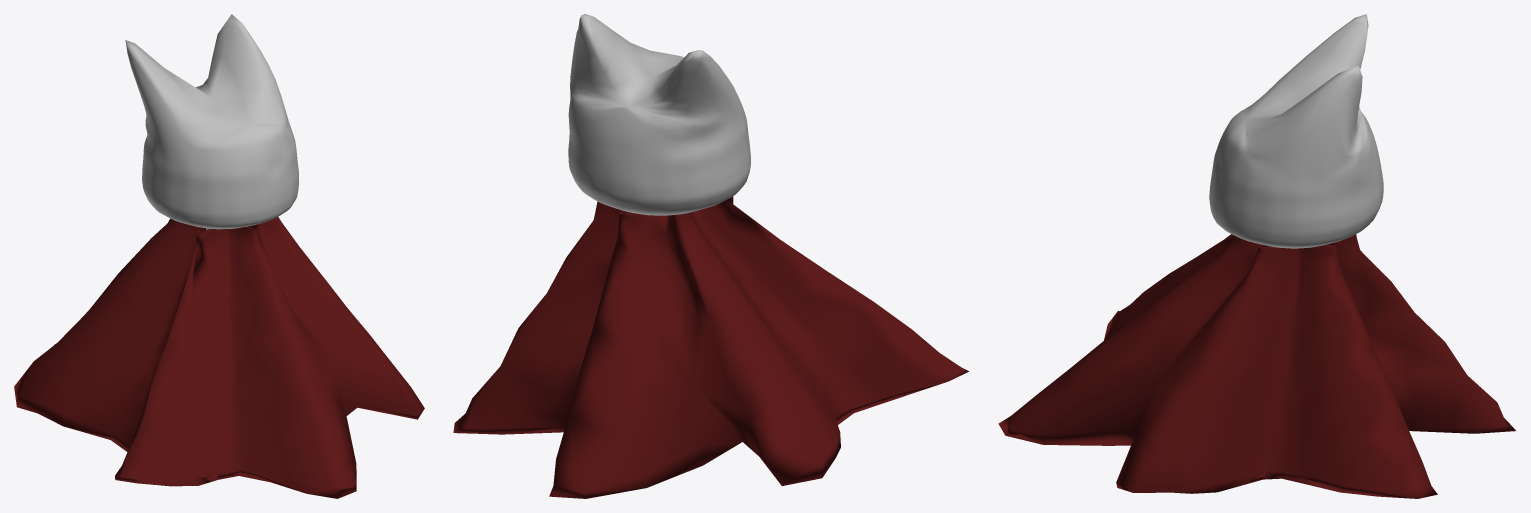
The model's file is hornet.glb.
The picture shows the model from 3 angles, left to right: view 1: azimuth 30°, elevation 25°; view 2: azimuth 150°, elevation 25°; view 3: azimuth 270°, elevation 25°; orthographic projection. The views are drawn at different scales.
Parts seen in each view (by area): view 1: nurbsToPoly1, pCylinder1; view 2: nurbsToPoly1, pCylinder1; view 3: nurbsToPoly1, pCylinder1.
Part boxes in pixels (x1,y1,x2,y2): nurbsToPoly1: (14, 217, 424, 498); pCylinder1: (125, 14, 298, 230); nurbsToPoly1: (453, 196, 968, 498); pCylinder1: (568, 14, 750, 215); nurbsToPoly1: (998, 234, 1515, 498); pCylinder1: (1209, 14, 1383, 248).
Bounding box in the file's own units: 0.0166 × 0.0176 × 0.0212.
